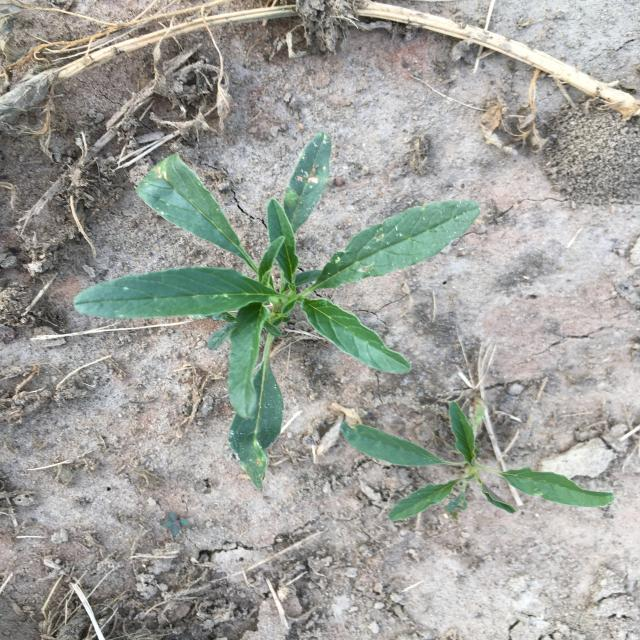Waterhemp: (72, 132, 481, 492), (340, 395, 615, 521)
